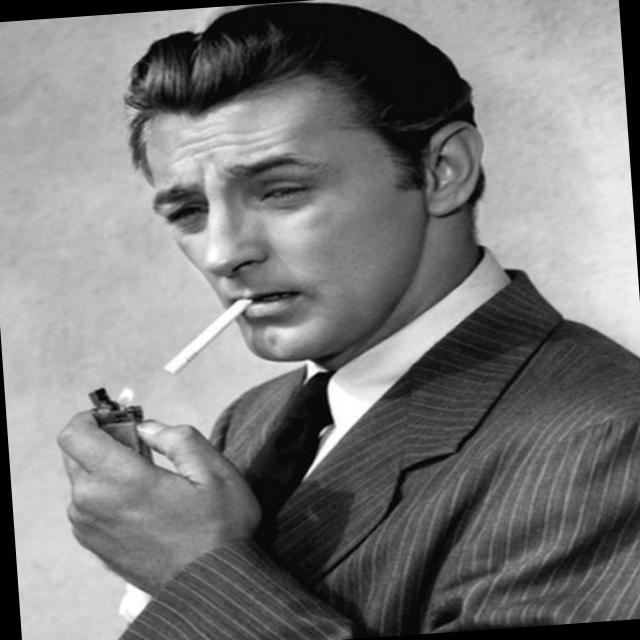smoke: (155, 297, 261, 379)
